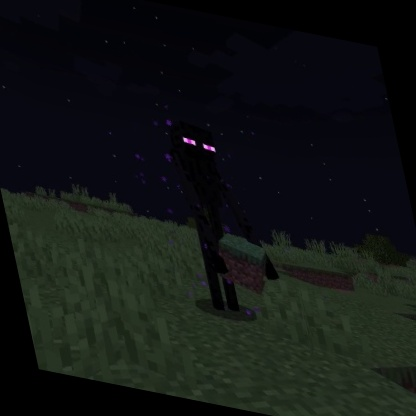enderman: (157, 113, 293, 329)
